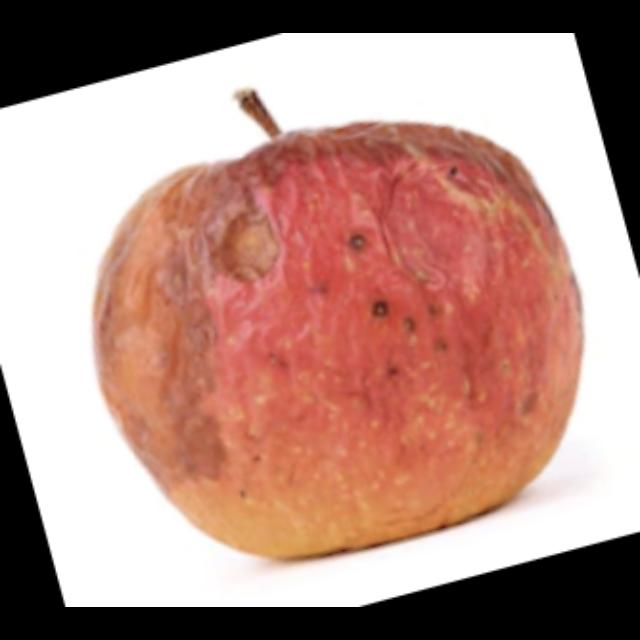Apel Tidak Segar: (43, 91, 603, 573)
